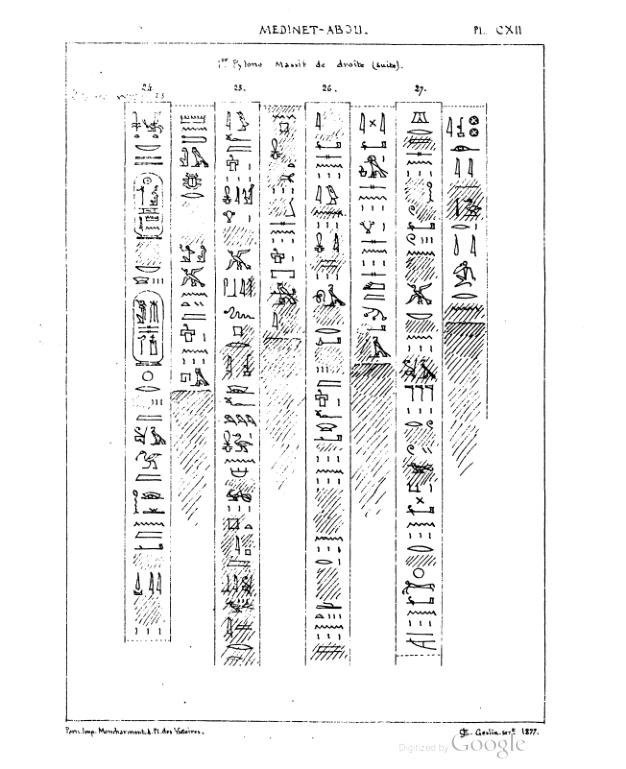circle: (130, 289, 165, 369)
